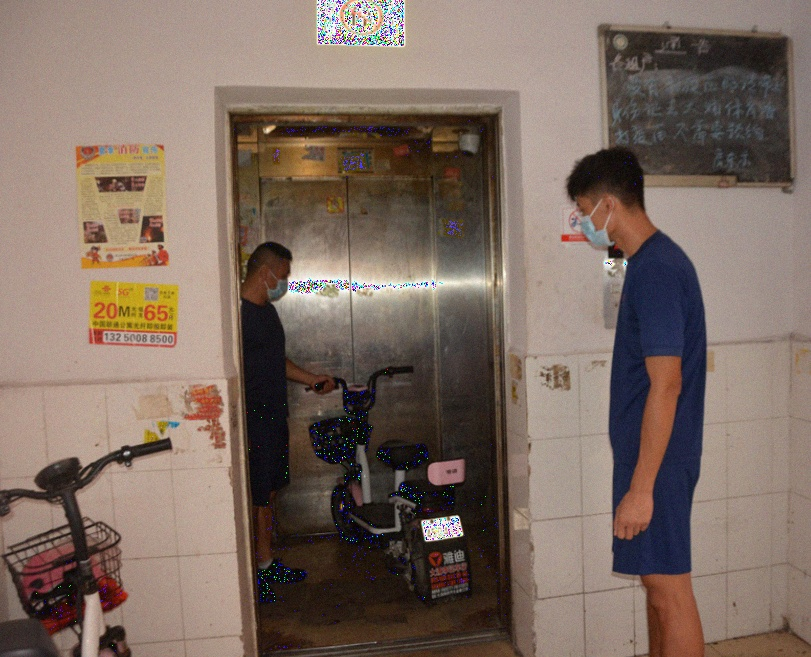ebike: (309, 362, 471, 605), (0, 438, 174, 654)
person: (568, 144, 713, 654), (247, 236, 302, 603)
